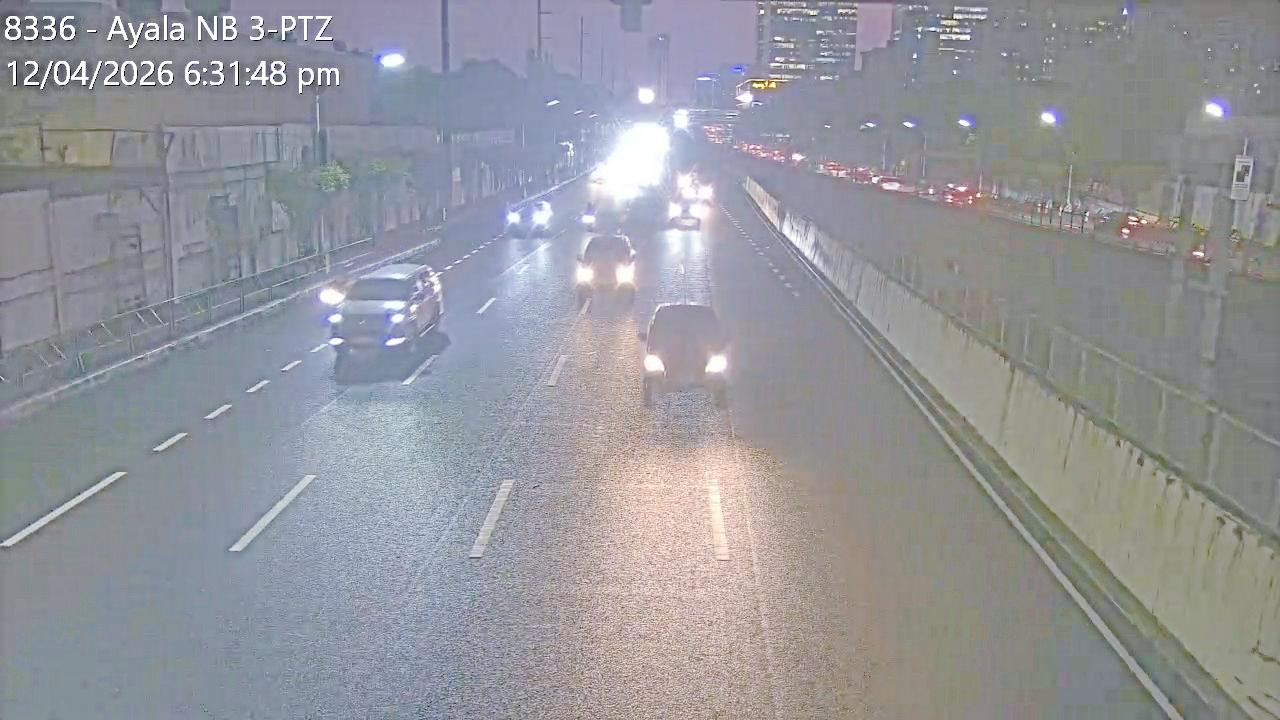Car: (336, 263, 443, 360), (648, 300, 716, 402), (583, 238, 638, 302), (508, 198, 556, 238), (669, 184, 704, 229), (696, 178, 716, 203)
Motor: (318, 277, 344, 328), (578, 200, 598, 231)
Not Accident: (316, 264, 438, 362), (671, 177, 718, 233)
